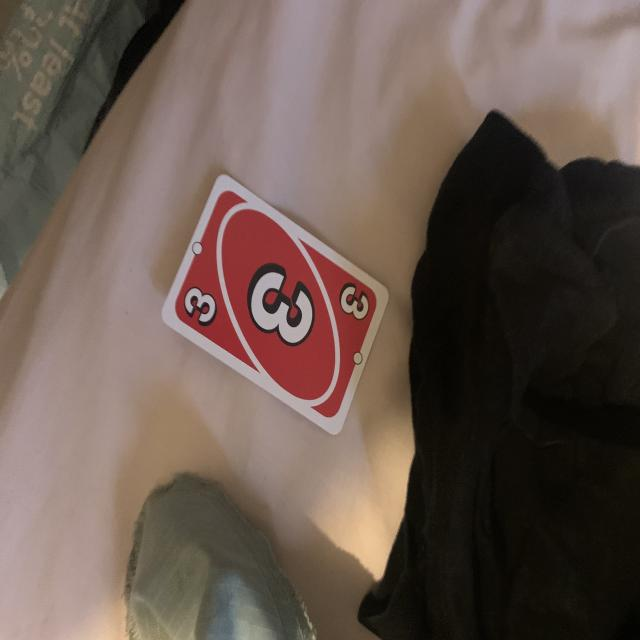lred-3: (182, 281, 223, 332)
